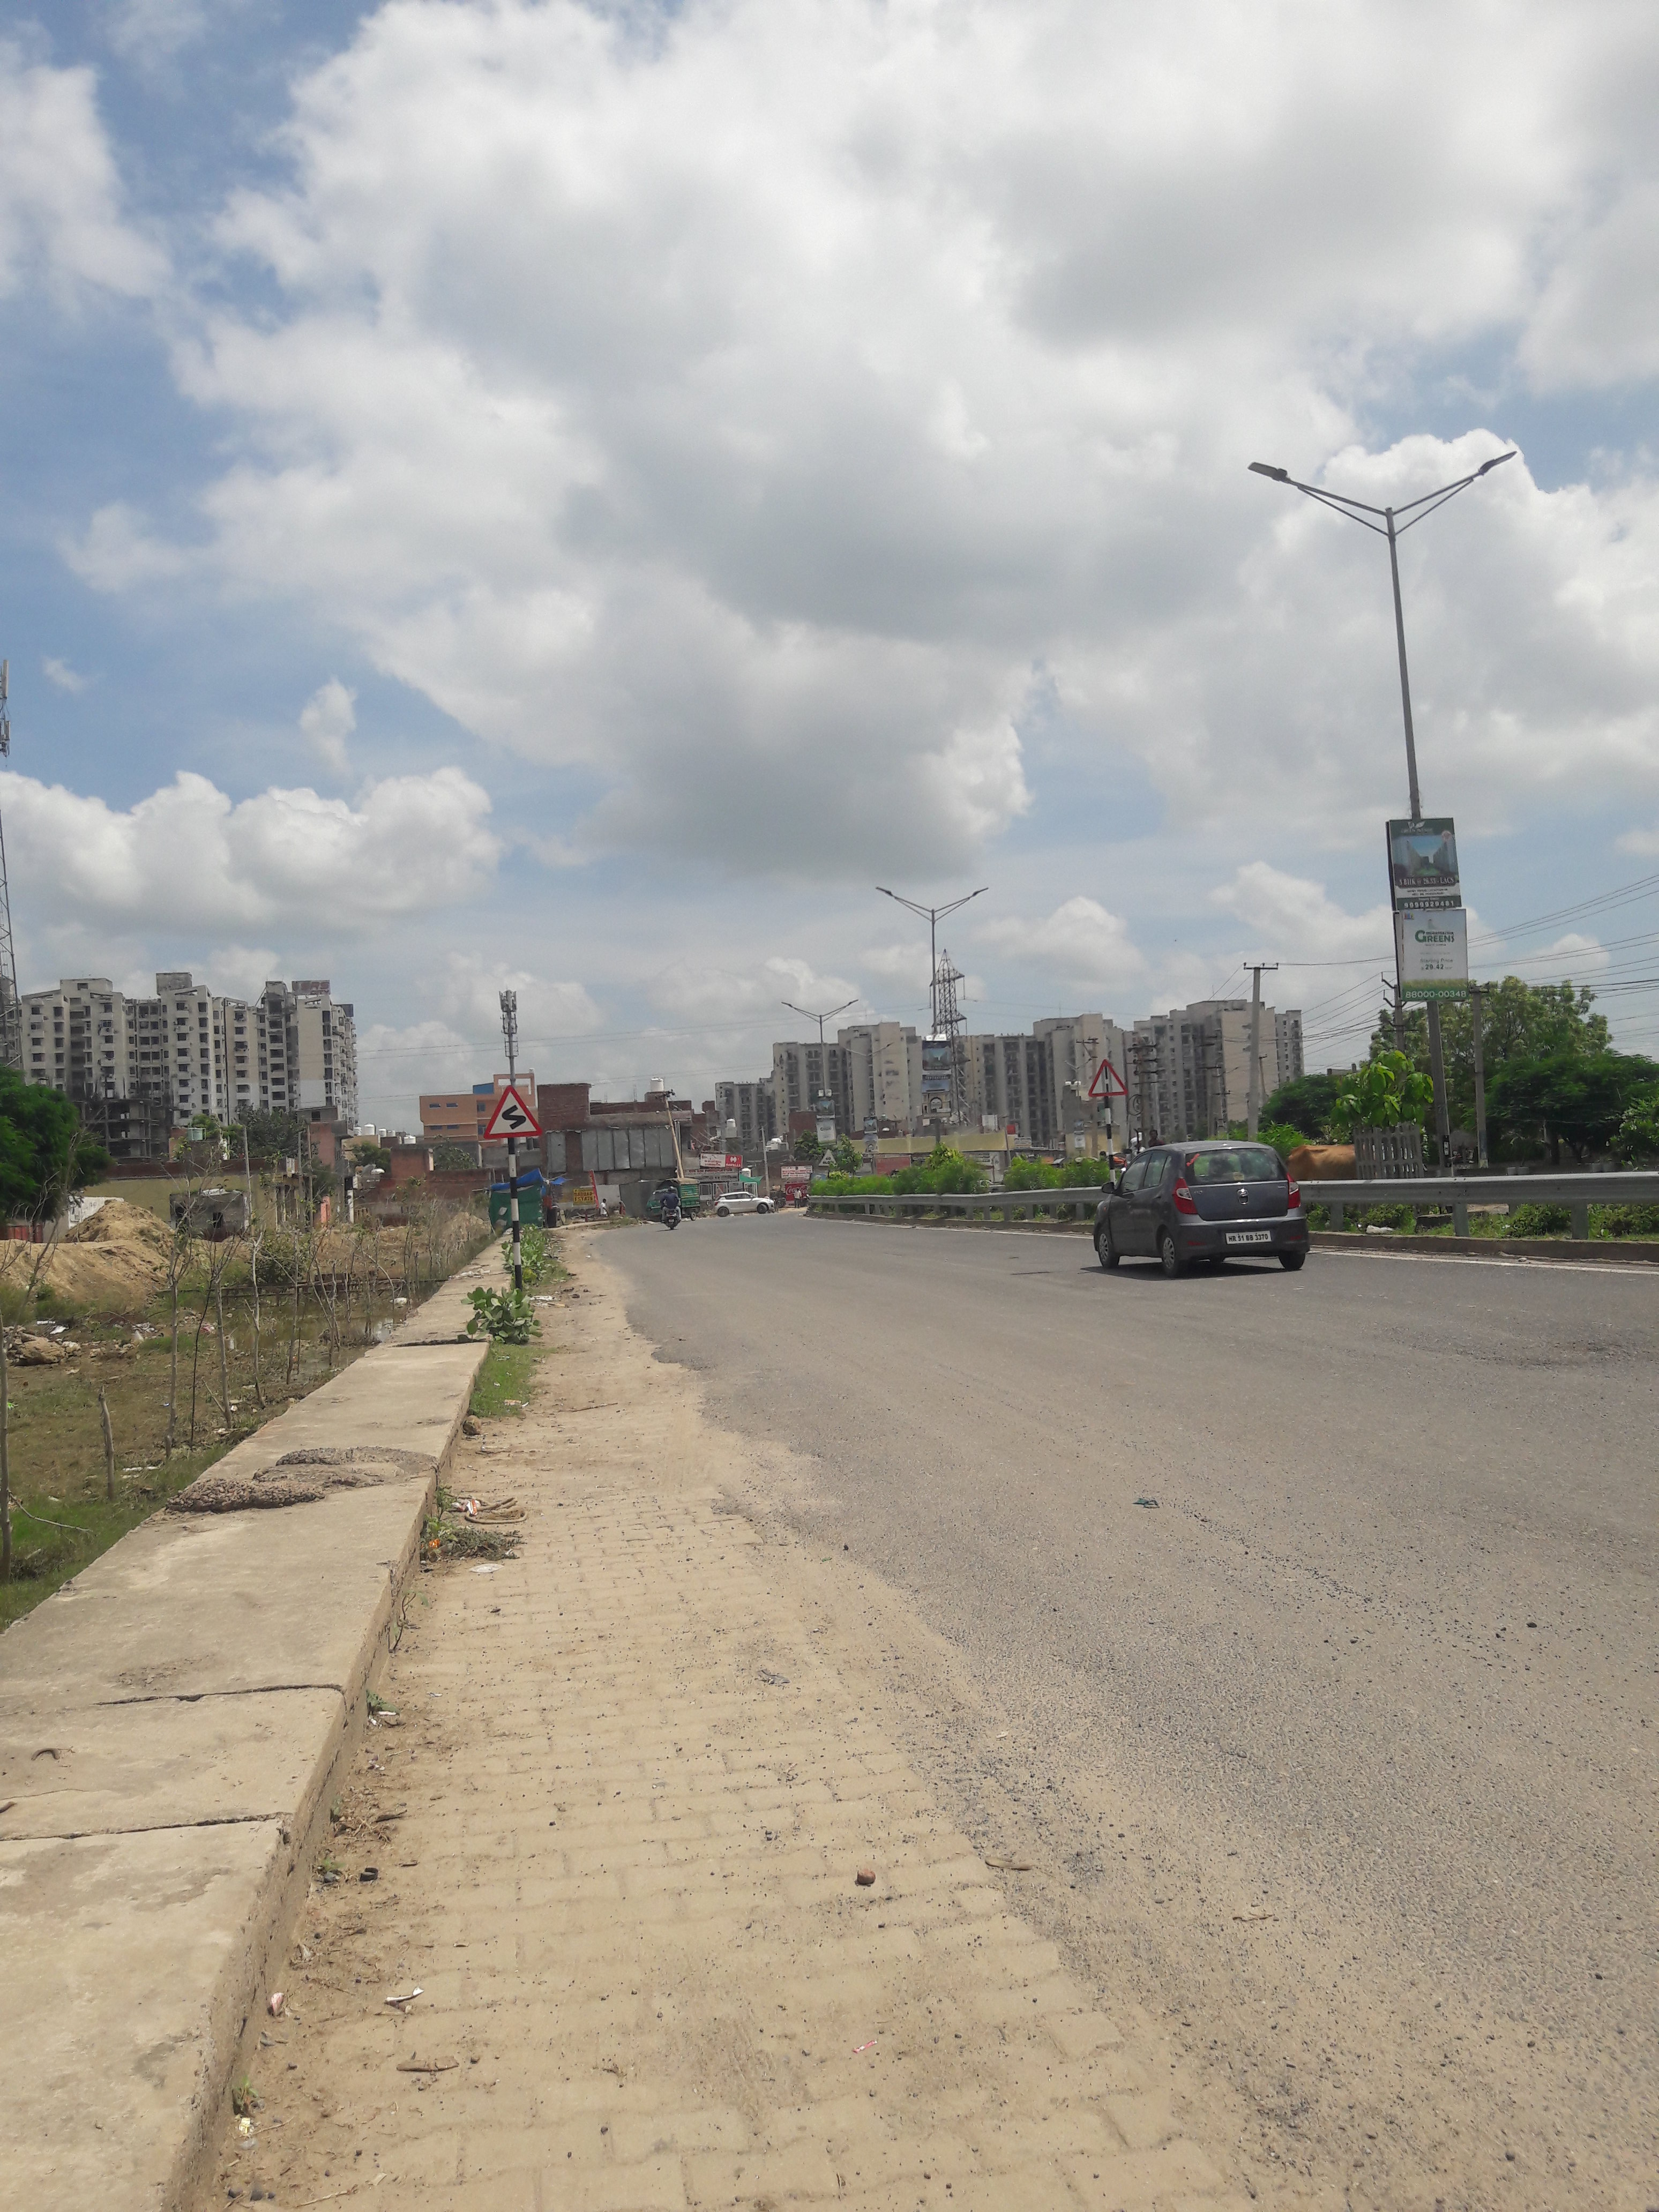traffic_sign: (483, 1085, 542, 1143), (1087, 1059, 1129, 1097)
